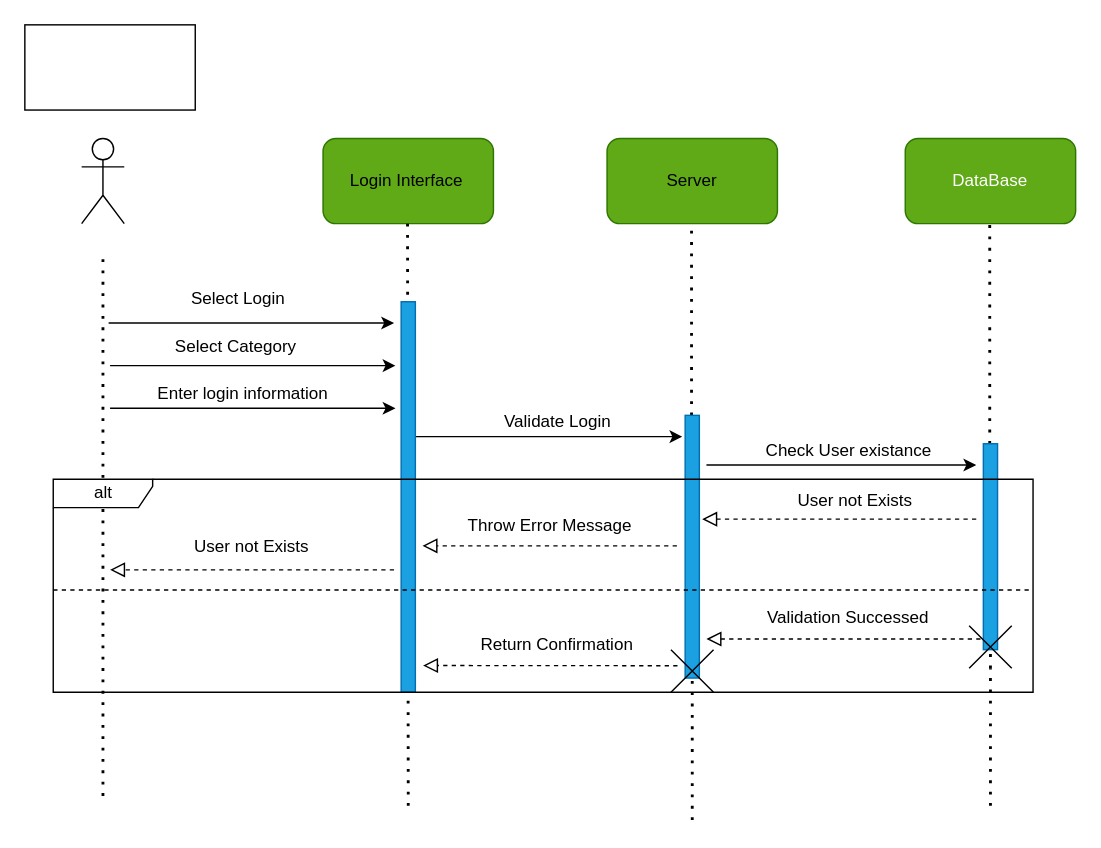
Some shapes in this 1101 by 848 pixel diagram are drawn without their labels. Each missing label, with the centre of its shape:
"Login" belongs at [109,66].
"User" belongs at [102,180].
